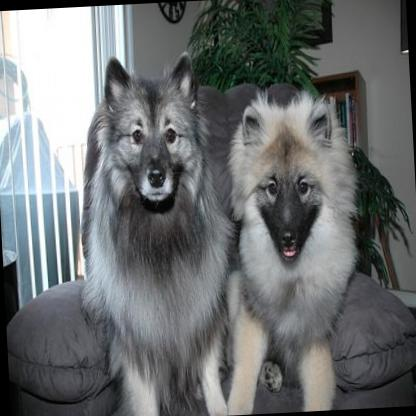keeshond: (64, 42, 245, 416), (206, 65, 374, 412)
